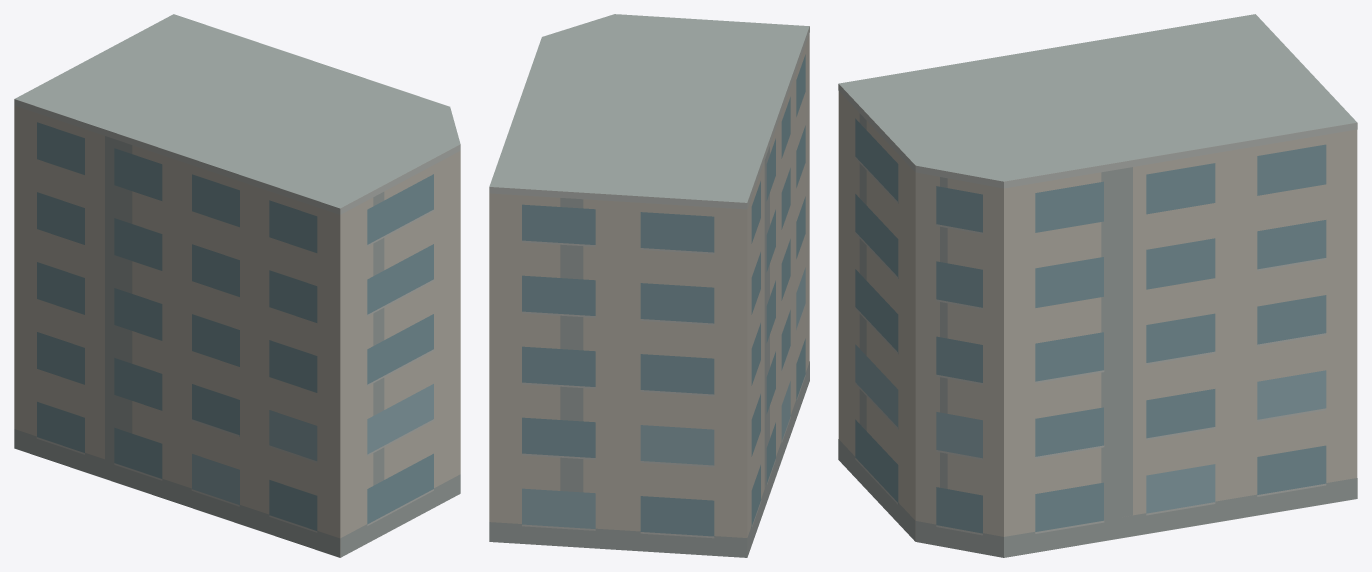
Rendered from survey-upis-32890642.glb.
3 renders of one model, left to right at view 1: azimuth 30°, elevation 25°; view 2: azimuth 150°, elevation 25°; view 3: azimuth 270°, elevation 25°, orthographic. The views are drawn at different scales.
Parts seen in each view (by area): view 1: survey-upis-32890642.tmp; view 2: survey-upis-32890642.tmp; view 3: survey-upis-32890642.tmp.
Part boxes in pixels (bbox=[...]): survey-upis-32890642.tmp: bbox=[14, 14, 460, 557]; survey-upis-32890642.tmp: bbox=[489, 14, 809, 557]; survey-upis-32890642.tmp: bbox=[838, 14, 1357, 557].
Size of the model in its own units: 12.67 by 13.25 by 16.57.
